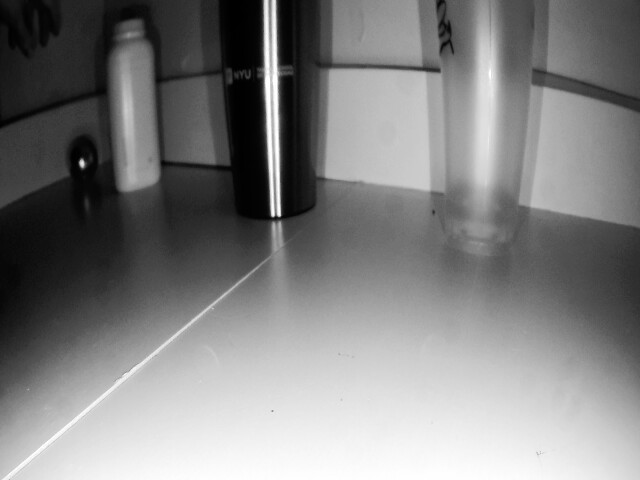silver: (63, 130, 106, 182)
